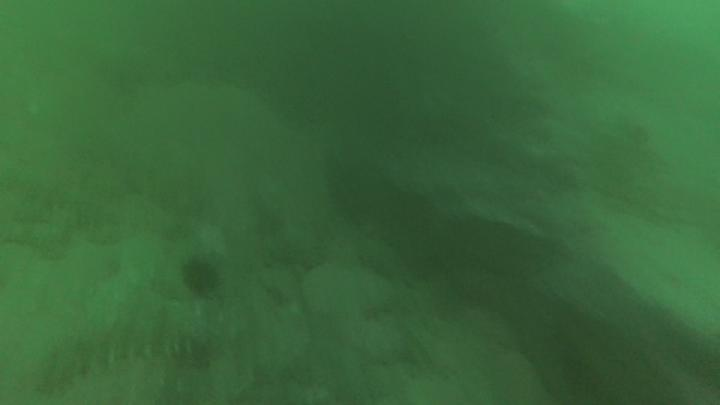echinus: (178, 249, 227, 302)
holothurian: (30, 310, 214, 388)
